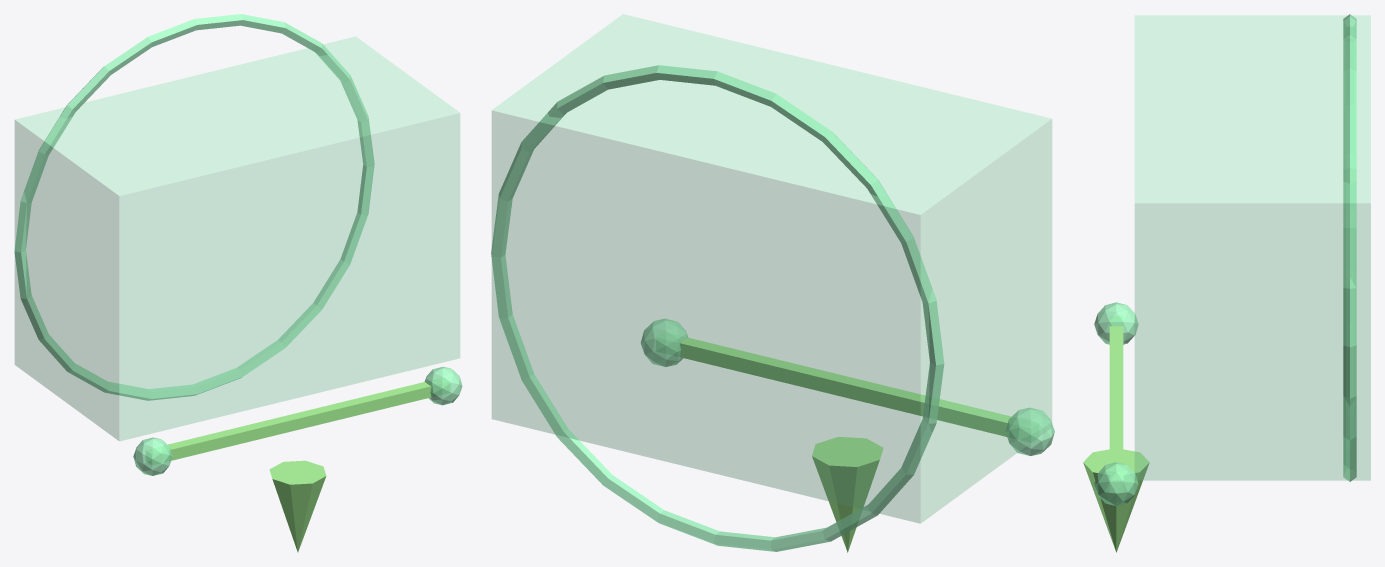
The model's file is 06_dynamic_combat_camera_trigger.glb.
The picture shows the model from 3 angles, left to right: view 1: azimuth 30°, elevation 25°; view 2: azimuth 150°, elevation 25°; view 3: azimuth 270°, elevation 25°; orthographic projection. The views are drawn at different scales.
Parts seen in each view (by area): view 1: combat_camera_volume, combat_start_ring, camera_rail, look_direction, camera_anchor_a, camera_anchor_b; view 2: combat_camera_volume, combat_start_ring, camera_rail, look_direction, camera_anchor_a, camera_anchor_b; view 3: combat_camera_volume, combat_start_ring, look_direction, camera_rail, camera_anchor_b, camera_anchor_a.
Boxes of the visible parts, x1,y1,x2,y2 form: combat_camera_volume: (15,36,459,441); combat_start_ring: (14,14,374,400); camera_rail: (146,378,449,464); look_direction: (269,460,326,552); camera_anchor_a: (133,437,172,475); camera_anchor_b: (424,366,462,405); combat_camera_volume: (492,14,1051,523); combat_start_ring: (491,65,944,551); camera_rail: (679,337,1011,436); look_direction: (812,436,883,552); camera_anchor_a: (1005,407,1054,455); camera_anchor_b: (641,318,687,366); combat_camera_volume: (1135,15,1370,480); combat_start_ring: (1343,14,1356,481); look_direction: (1083,449,1149,552); camera_rail: (1109,316,1123,492); camera_anchor_b: (1094,462,1138,506); camera_anchor_a: (1094,302,1138,344).
Bounding box in the file's own units: 1.69 × 2.06 × 1.03.
